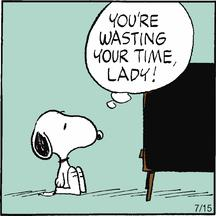snoopy: (30, 109, 104, 197)
